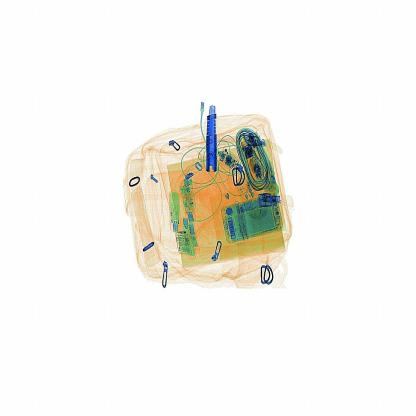pliers: (199, 78, 228, 181)
